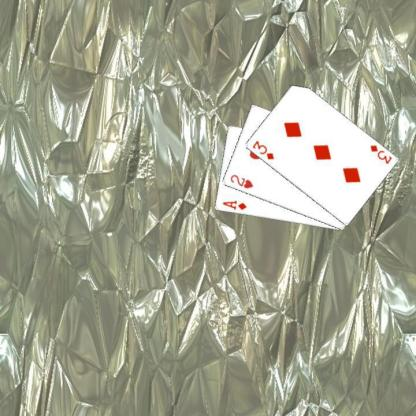2H: (228, 172, 254, 190)
3D: (250, 138, 275, 161), (367, 143, 393, 165)
AD: (220, 198, 247, 211)
